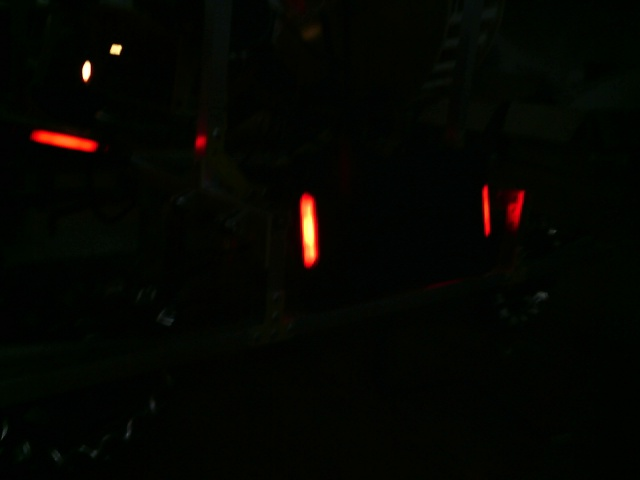lamp: (296, 191, 323, 269)
